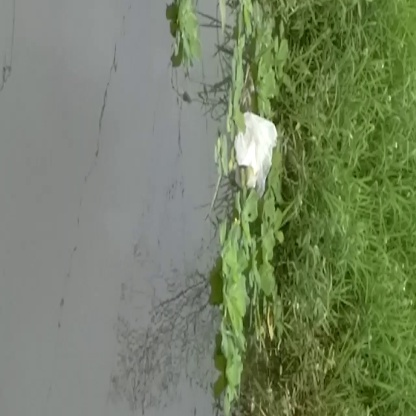plastic-bag: (231, 107, 285, 193)
